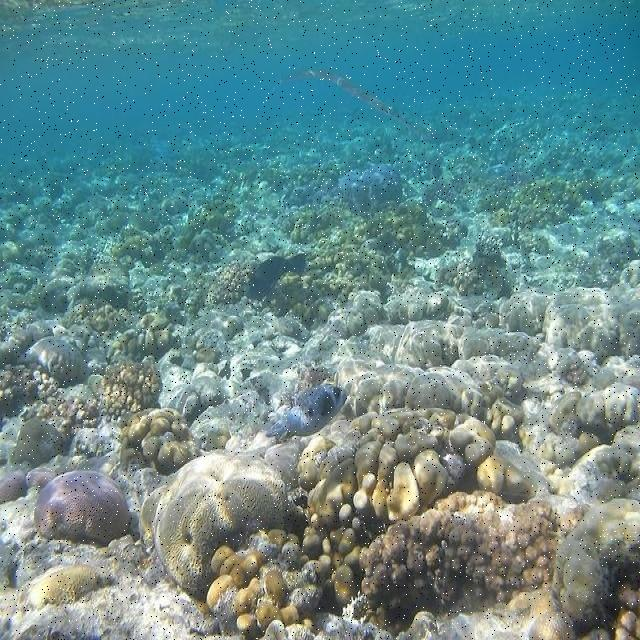fish: (271, 68, 414, 131), (267, 385, 347, 443)
reefs: (203, 408, 540, 639), (360, 491, 566, 621), (145, 455, 291, 587), (525, 502, 639, 639), (34, 467, 131, 549), (118, 405, 196, 475), (22, 564, 113, 608), (102, 361, 165, 414)
